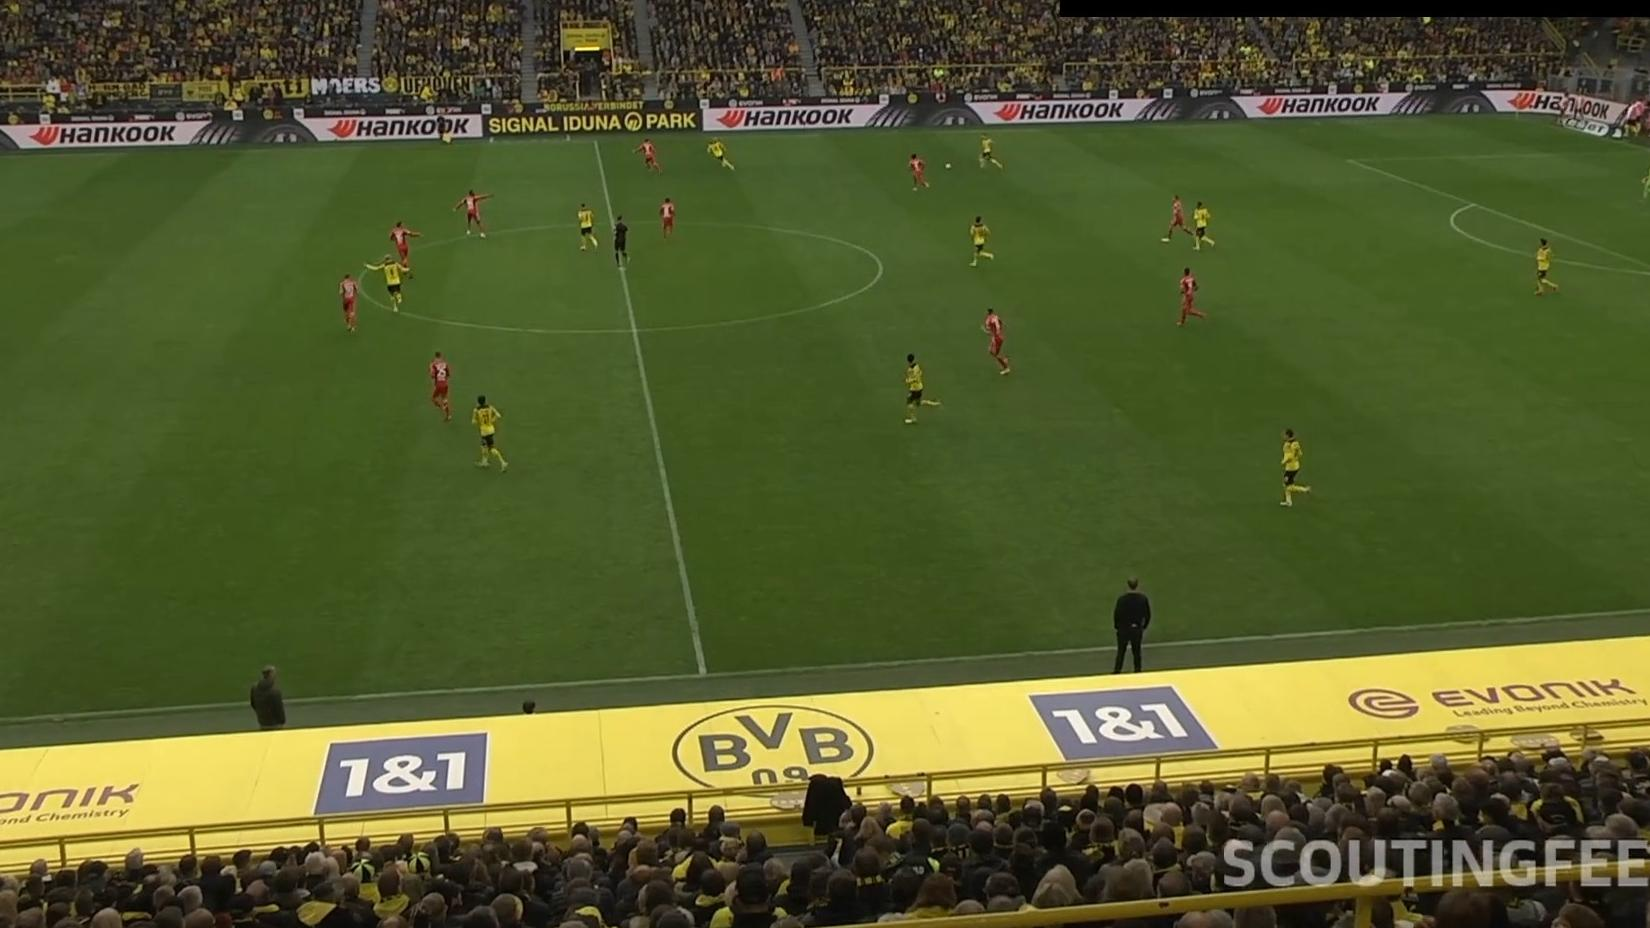ball: (944, 161, 953, 171)
